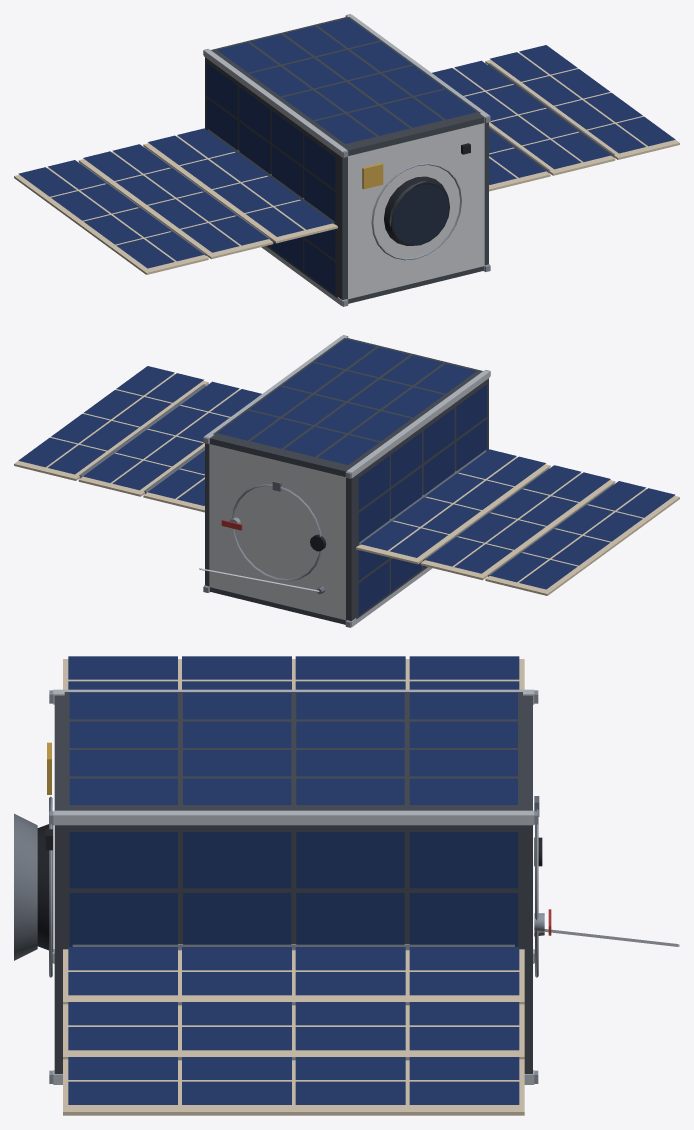
The model's file is cubesat-12u-wings.glb.
The picture shows the model from 3 angles, top to bottom: view 1: azimuth 30°, elevation 25°; view 2: azimuth 150°, elevation 25°; view 3: azimuth 270°, elevation 25°; orthographic projection. The views are drawn at different scales.
Visible parts, largest first — view 1: solar-panel, body; view 2: solar-panel, body; view 3: solar-panel, body.
Part boxes in pixels (box(x1,y1,x2,y2)): solar-panel: box(18, 18, 675, 294); body: box(14, 14, 679, 306); solar-panel: box(18, 339, 675, 615); body: box(14, 335, 679, 627); solar-panel: box(68, 656, 519, 1104); body: box(14, 659, 551, 1115).
Size of the model in its own units: 0.8163 by 0.2323 by 0.5069.
